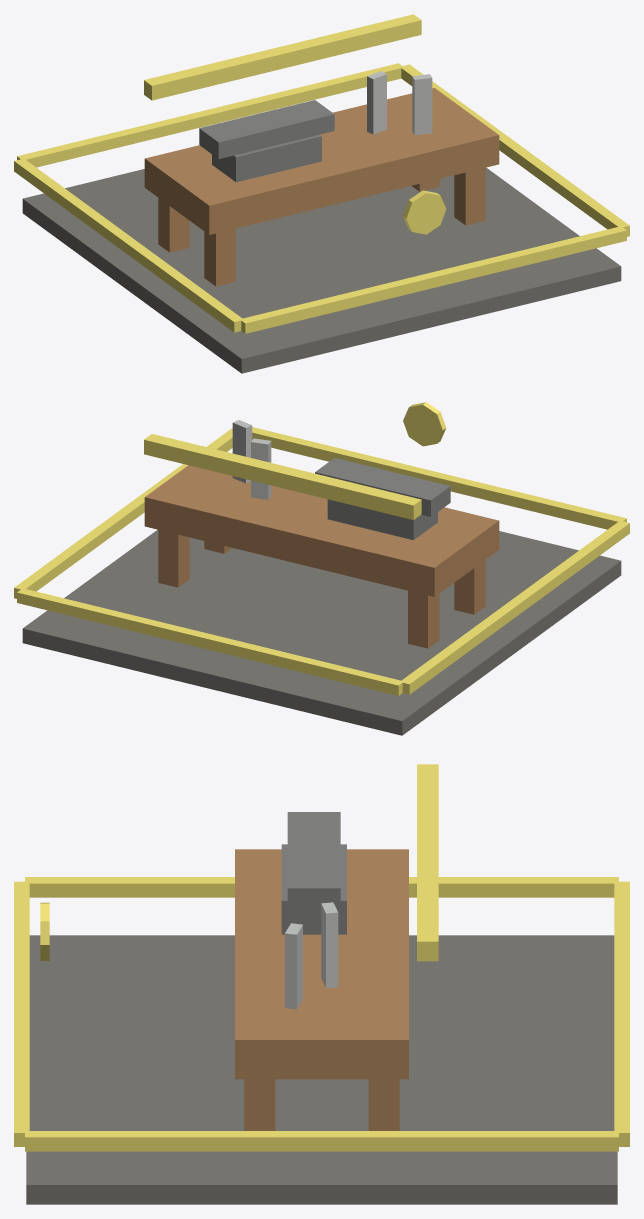
Rendered from t7_toolmaker.glb.
The picture shows the model from 3 angles, top to bottom: view 1: azimuth 30°, elevation 25°; view 2: azimuth 150°, elevation 25°; view 3: azimuth 270°, elevation 25°; orthographic projection. The views are drawn at different scales.
Visible parts, largest first — view 1: FootprintBase, Workbench, TierFrontTrim, ToolRack, TierBackTrim, TierLeftTrim, AnvilTop, TierRightTrim, AnvilBody, BenchLeg, BenchLeg.002, TierEmblem (+3 smaller); view 2: FootprintBase, Workbench, TierBackTrim, ToolRack, TierFrontTrim, TierLeftTrim, TierRightTrim, AnvilTop, AnvilBody, BenchLeg.001, BenchLeg.003, TierEmblem (+3 smaller); view 3: FootprintBase, Workbench, TierRightTrim, TierLeftTrim, AnvilTop, ToolRack, TierFrontTrim, TierBackTrim, AnvilBody, BenchLeg.002, BenchLeg.003, ToolBlankA (+1 smaller).
Part boxes in pixels (left/top/right/bottom): FootprintBase: left=22, top=167, right=621, bottom=373; Workbench: left=144, top=88, right=499, bottom=234; TierFrontTrim: left=240, top=226, right=626, bottom=333; ToolRack: left=144, top=14, right=421, bottom=100; TierBackTrim: left=17, top=63, right=403, bottom=167; TierLeftTrim: left=14, top=159, right=243, bottom=332; AnvilTop: left=199, top=100, right=334, bottom=158; TierRightTrim: left=400, top=64, right=629, bottom=236; AnvilBody: left=212, top=134, right=321, bottom=182; BenchLeg: left=204, top=228, right=235, bottom=286; BenchLeg.002: left=454, top=167, right=485, bottom=225; TierEmblem: left=403, top=190, right=446, bottom=234; FootprintBase: left=22, top=529, right=621, bottom=735; Workbench: left=144, top=465, right=499, bottom=596; TierBackTrim: left=17, top=588, right=403, bottom=695; ToolRack: left=144, top=434, right=421, bottom=519; TierFrontTrim: left=252, top=427, right=626, bottom=529; TierLeftTrim: left=402, top=521, right=629, bottom=694; TierRightTrim: left=14, top=428, right=232, bottom=598; AnvilTop: left=315, top=458, right=450, bottom=516; AnvilBody: left=327, top=499, right=437, bottom=540; BenchLeg.001: left=408, top=590, right=439, bottom=648; BenchLeg.003: left=158, top=530, right=189, bottom=587; TierEmblem: left=403, top=402, right=446, bottom=446; FootprintBase: left=26, top=935, right=617, bottom=1204; Workbench: left=235, top=849, right=408, bottom=1079; TierRightTrim: left=25, top=1131, right=618, bottom=1151; TierLeftTrim: left=25, top=877, right=618, bottom=897; AnvilTop: left=287, top=812, right=340, bottom=910; ToolRack: left=417, top=764, right=438, bottom=961; TierFrontTrim: left=14, top=881, right=29, bottom=1146; TierBackTrim: left=614, top=881, right=629, bottom=1146; AnvilBody: left=281, top=844, right=346, bottom=934; BenchLeg.002: left=244, top=1079, right=275, bottom=1130; BenchLeg.003: left=368, top=1079, right=399, bottom=1130; ToolBlankA: left=321, top=902, right=338, bottom=988.
Bounding box in the file's own units: 3.96 × 1.61 × 3.96.
